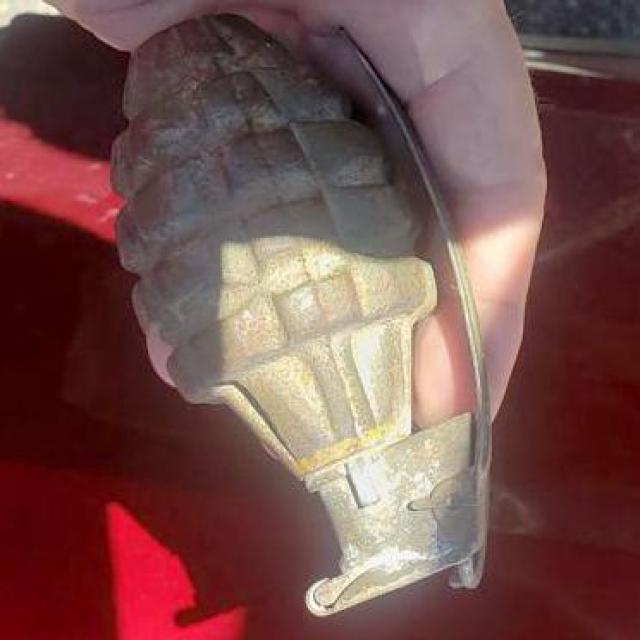grenade: (111, 11, 492, 623)
